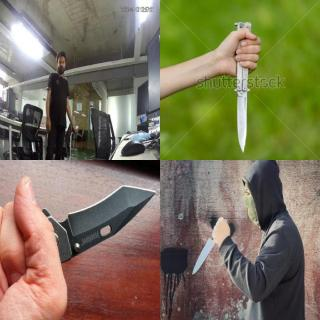knife: (15, 179, 159, 257), (227, 33, 261, 155), (190, 216, 222, 276), (76, 130, 82, 138)
